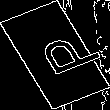P_SW: (17, 27, 93, 83)
